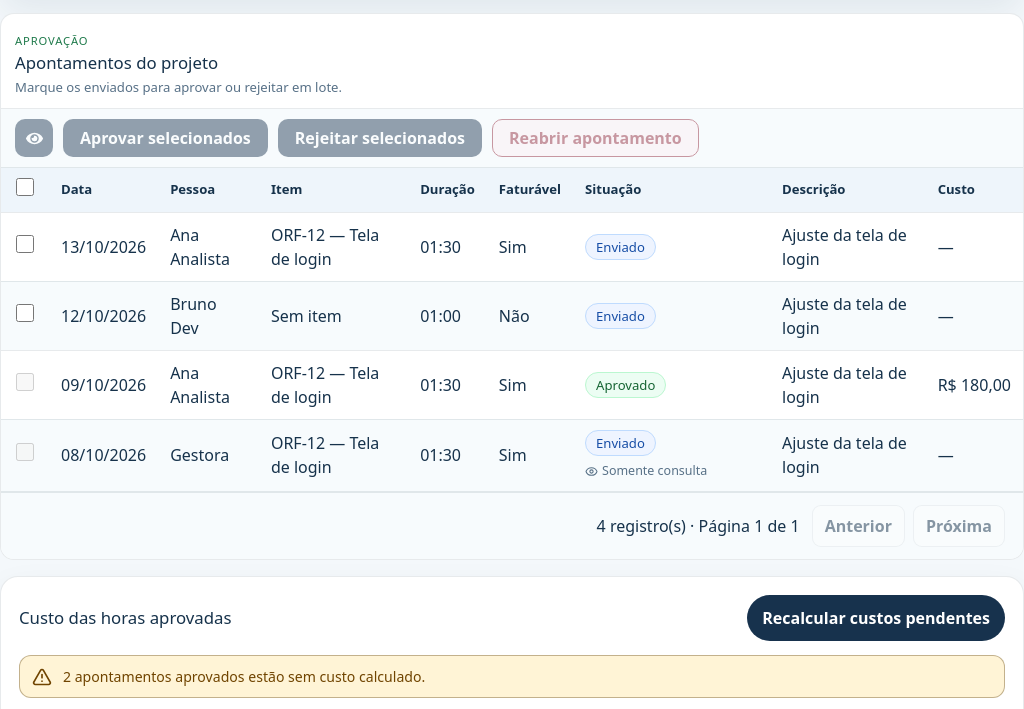
Horas do projeto › reabre o aprovado com motivo na variante destrutiva e mostra a falha no diálogo
This screenshot has width=1024, height=709.
(page scrolled)
Check: the heading "Apontamentos do projeto" is shown, box [15,51,218,74]
Click the 4th row: [512, 385] box [1,350,1023,419]
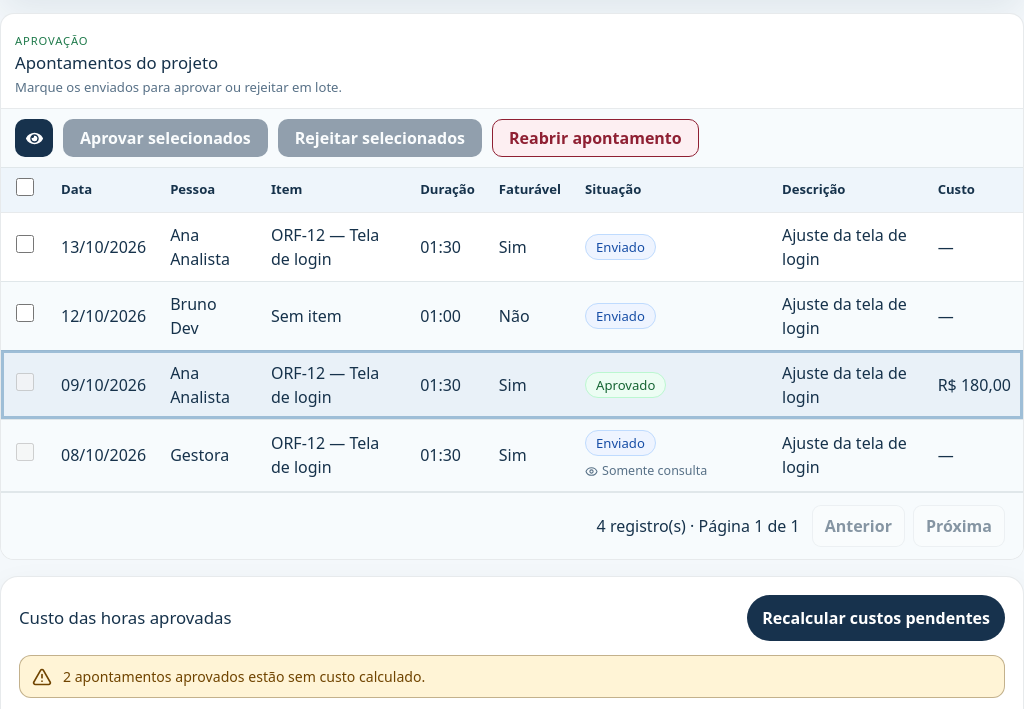
Click the button "Reabrir apontamento": [595, 138] box [492,119,699,157]
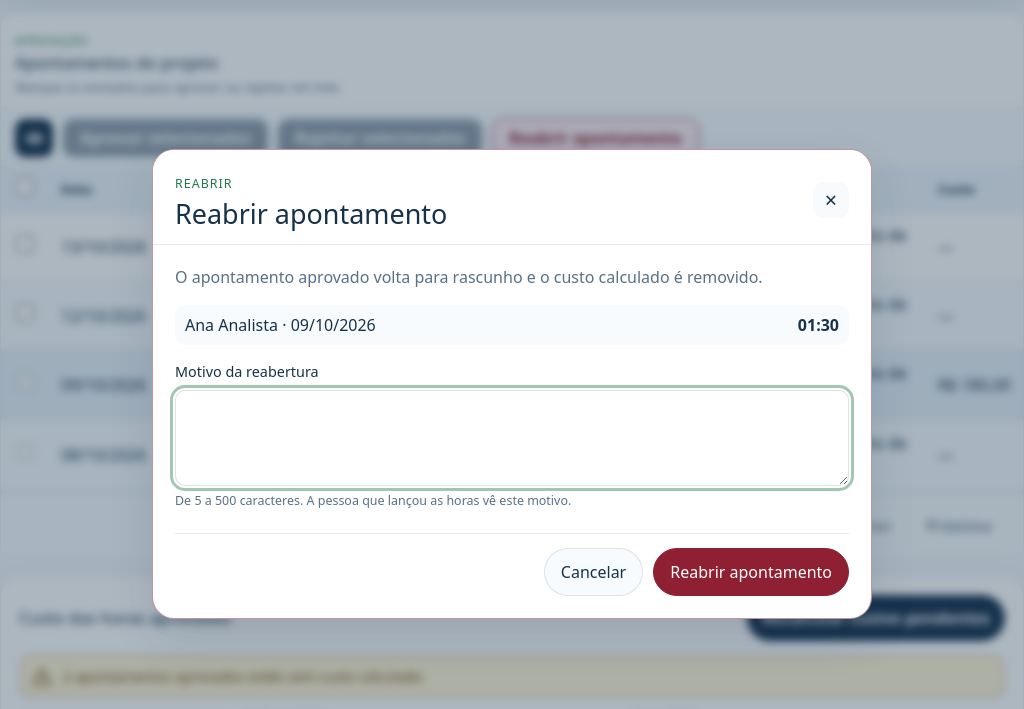
Check: the dialog "Reabrir apontamento" shows "O apontamento aprovado volta para rascunho e o custo calculado é removido.", box [175,266,763,288]
In the text box labelled "Motivo da reabertura": [512, 438] box [175,390,849,486], type "Data lançada errada."
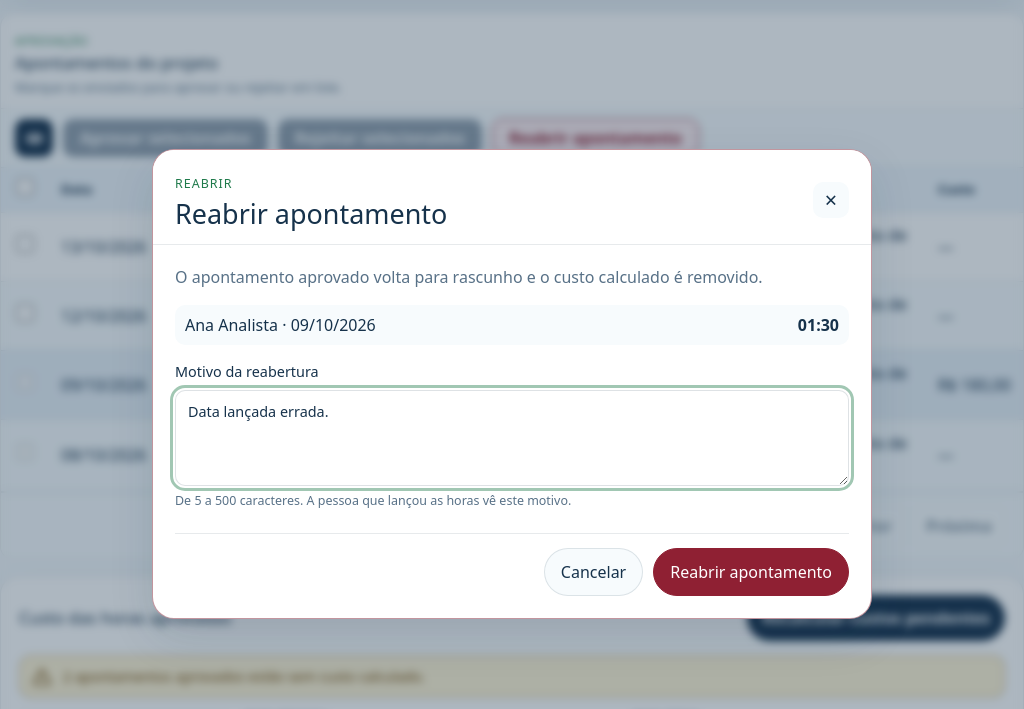
Click the button "Reabrir apontamento": [751, 572] box [653,548,849,596]
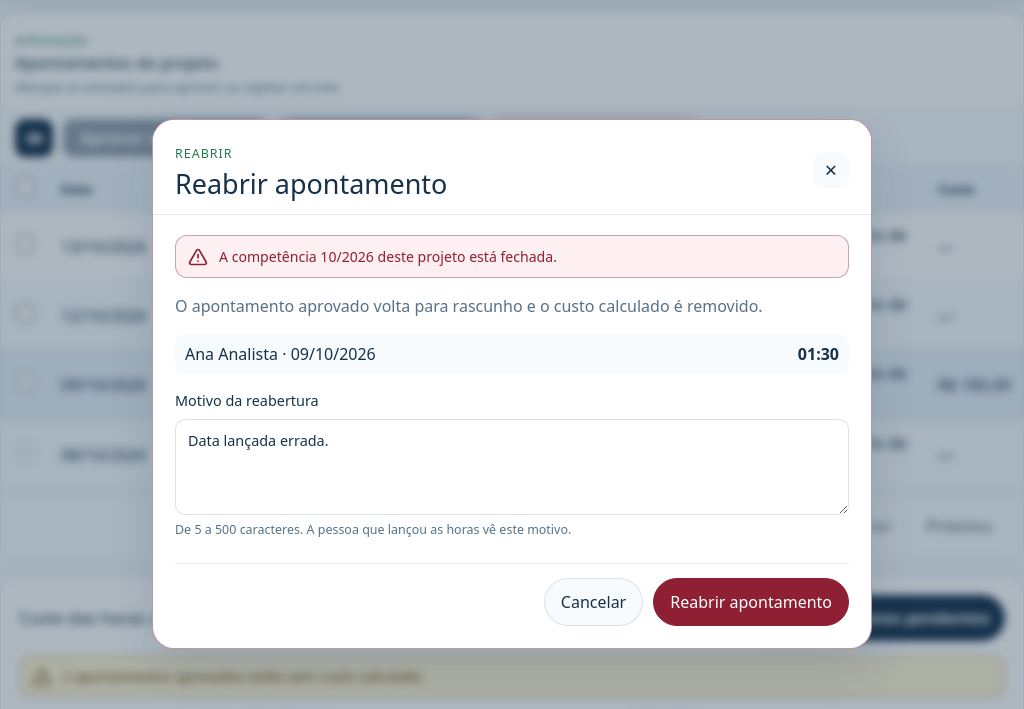
Check: the message reads "A competência 10/2026 deste projeto está fechada.", box [219,247,557,266]
Click the button "Reabrir apontamento": [751, 602] box [653,578,849,626]
(page scrolled)
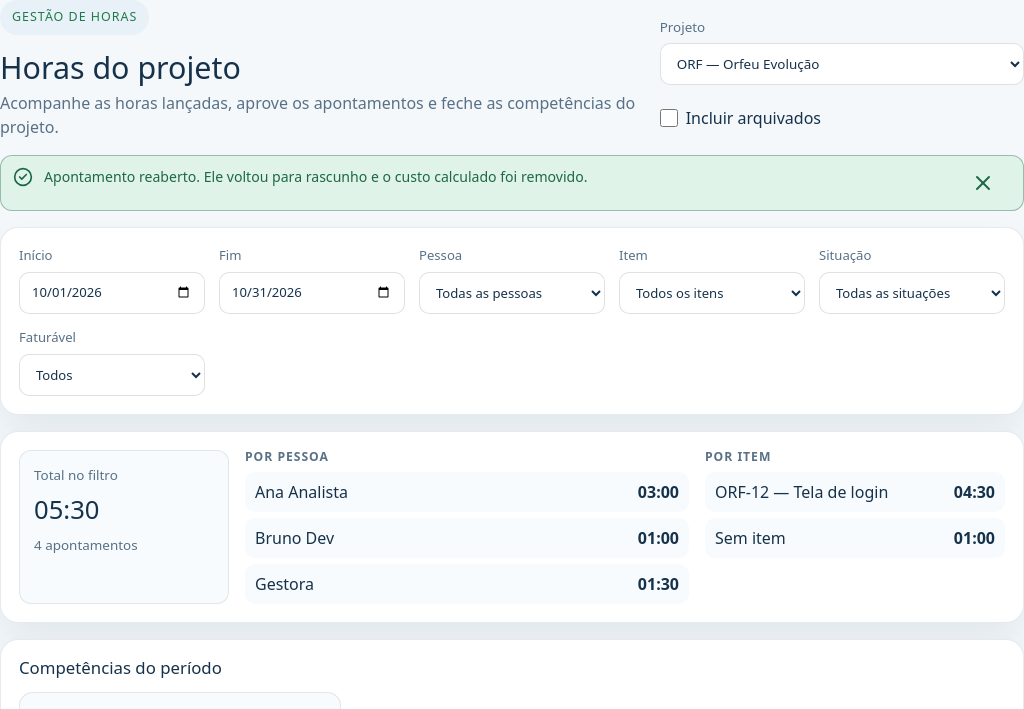
Check: the text "Apontamento reaberto. Ele voltou para rascunho e o custo calculado foi removido." is shown, box [44,167,588,186]
